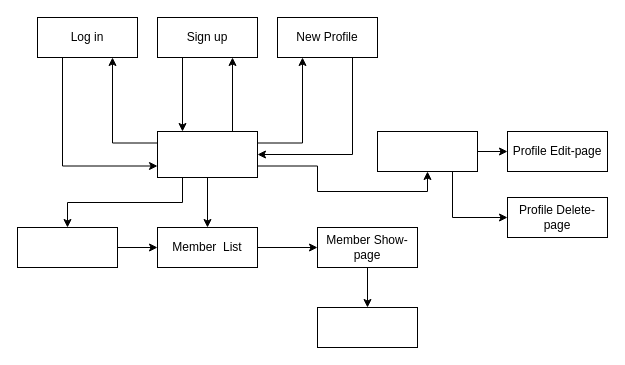
The diagram is 625 pixels wide and 365 high, and some of its shapes have lost their labels. The shapes that lost their labels are listed below. From the top down, each one's box as (x1, y1, x2, y2) in pixels, then its label:
(156, 130, 258, 178): top-page
(376, 130, 478, 172): User my-page
(16, 226, 118, 268): Search
(316, 306, 418, 348): Question Comment
